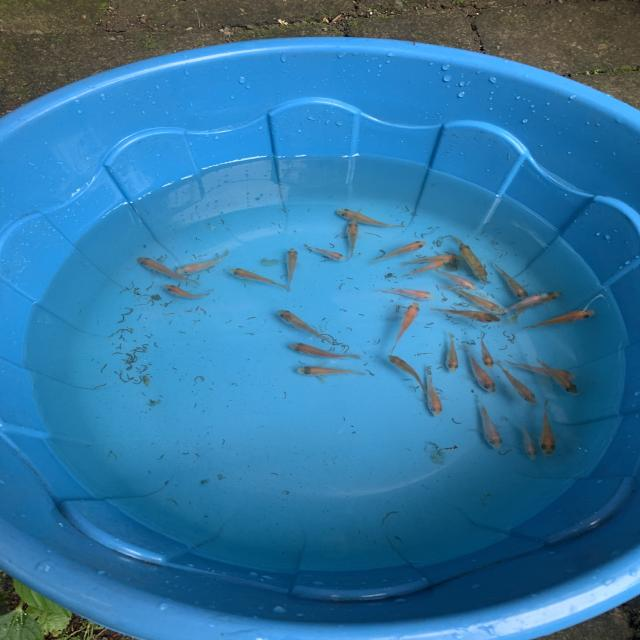nila: (528, 348, 580, 397), (468, 395, 511, 454), (133, 254, 210, 286), (276, 308, 340, 346), (381, 349, 433, 395), (493, 356, 540, 406), (520, 306, 600, 334), (450, 235, 498, 281), (499, 356, 582, 382), (509, 285, 565, 323), (387, 299, 425, 354), (451, 282, 508, 318), (331, 206, 409, 232), (290, 339, 368, 364), (461, 342, 498, 394), (367, 238, 435, 266), (228, 263, 294, 291), (172, 247, 234, 276), (427, 262, 481, 294), (287, 364, 378, 382), (513, 415, 545, 466), (421, 360, 447, 421), (427, 307, 509, 326), (154, 278, 223, 300), (396, 258, 452, 281), (497, 263, 527, 302), (540, 396, 558, 461), (374, 285, 439, 302), (460, 242, 485, 286), (279, 243, 300, 294), (501, 293, 548, 315), (301, 242, 347, 264), (474, 330, 499, 368), (341, 220, 362, 264), (402, 252, 468, 265), (444, 330, 461, 374)
